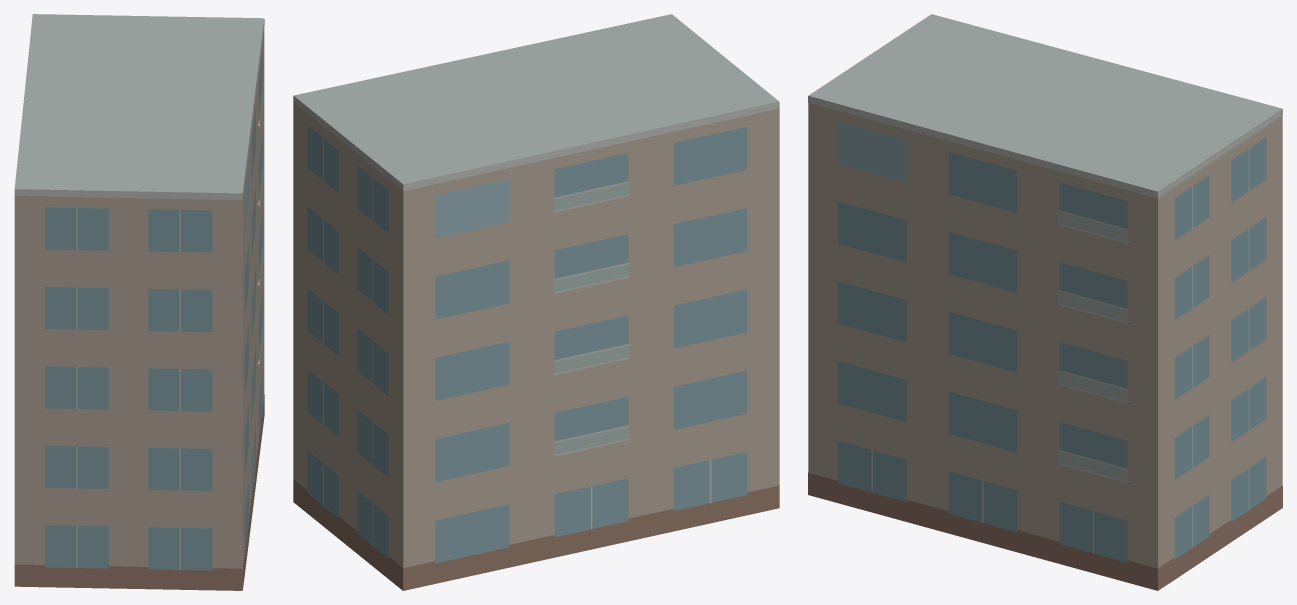
File: survey-upis-32881267.glb
3 renders of one model, left to right at view 1: azimuth 30°, elevation 25°; view 2: azimuth 150°, elevation 25°; view 3: azimuth 270°, elevation 25°, orthographic. The views are drawn at different scales.
Parts seen in each view (by area): view 1: survey-upis-32881267.tmp; view 2: survey-upis-32881267.tmp; view 3: survey-upis-32881267.tmp.
Boxes of the visible parts, left/top/right/bottom form: survey-upis-32881267.tmp: left=14, top=14, right=264, bottom=590; survey-upis-32881267.tmp: left=293, top=14, right=779, bottom=590; survey-upis-32881267.tmp: left=808, top=14, right=1282, bottom=590.
Bounding box in the file's own units: 13.75 × 14.4 × 15.53.
